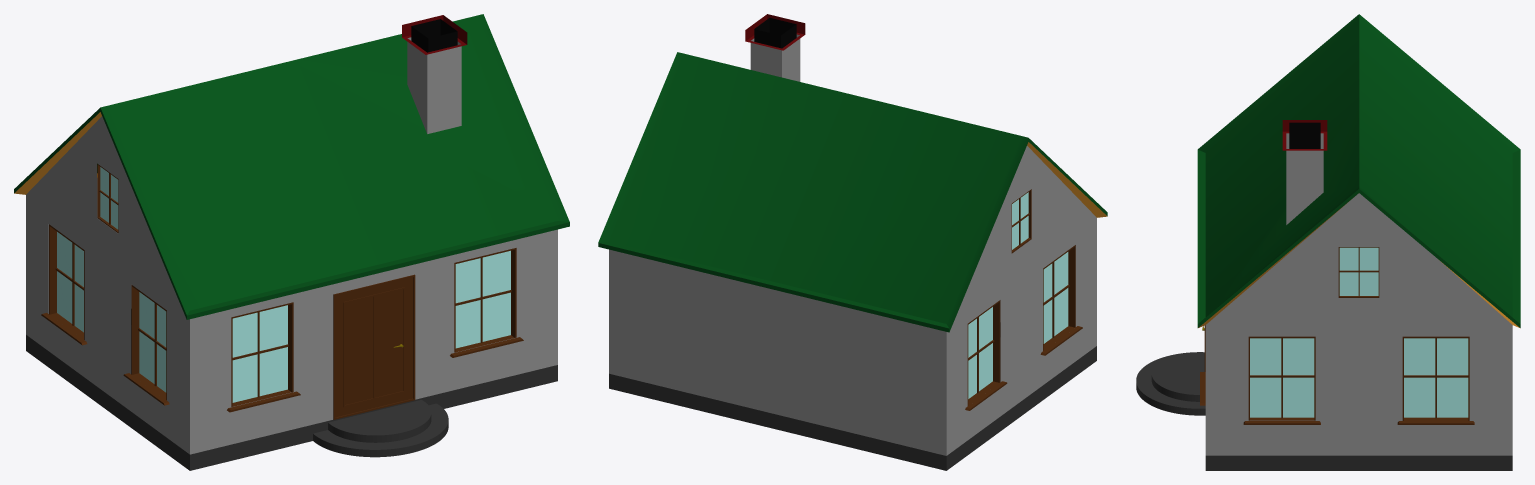
The model's file is home.fbx.
3 views of the same model, side by side, from view 1: azimuth 30°, elevation 25°; view 2: azimuth 150°, elevation 25°; view 3: azimuth 270°, elevation 25° (orthographic). The views are drawn at different scales.
Parts seen in each view (by area): view 1: Plane; view 2: Plane; view 3: Plane.
Part boxes in pixels (x1,y1,x2,y2): Plane: [14, 14, 569, 470]; Plane: [598, 14, 1107, 470]; Plane: [1136, 14, 1520, 470].
Size of the model in its own units: 2960 by 2442 by 2751.
